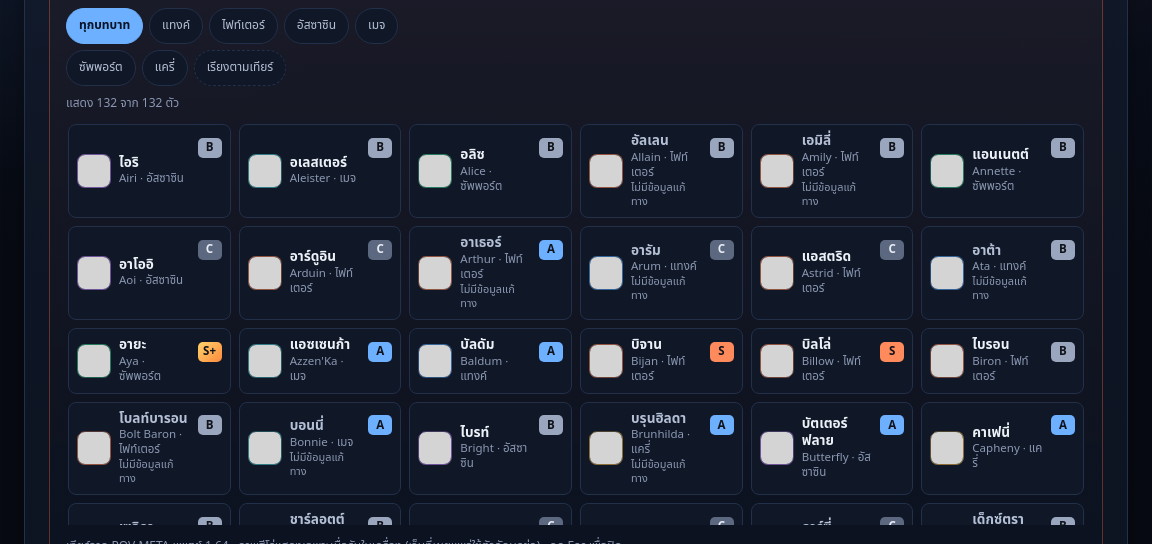
Test: App › ล้างทั้งหมดต้องยืนยันก่อน และยกเลิกได้
The image size is (1152, 544).
(page scrolled)
Click the button "อาร์ดูอิน Arduin · ไฟท์เตอร์ C".
click(320, 273)  # box [239,226,401,320]
(page scrolled)
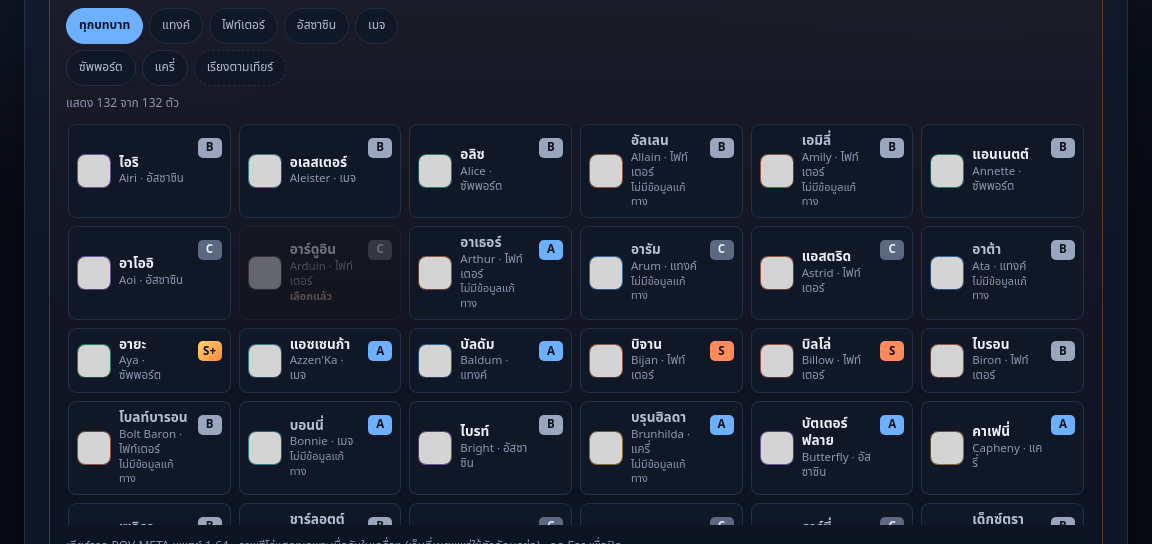
Click the button "อาโออิ Aoi · อัสซาซิน C".
click(149, 273)  # box [68,226,231,320]
(page scrolled)
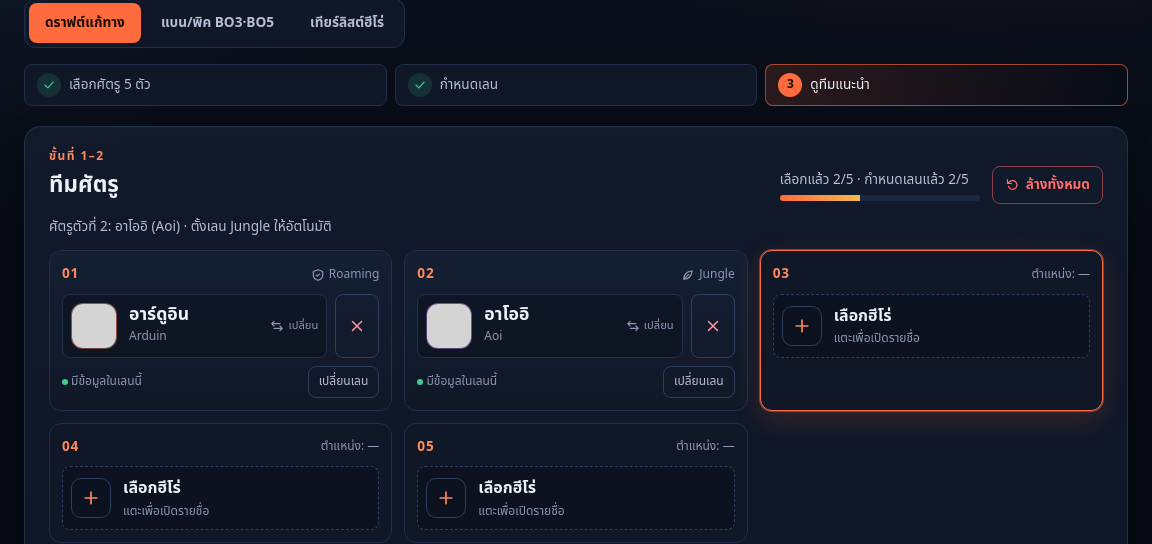
Click the button "ล้างทั้งหมด".
click(1047, 185)  # box [992,166,1103,204]
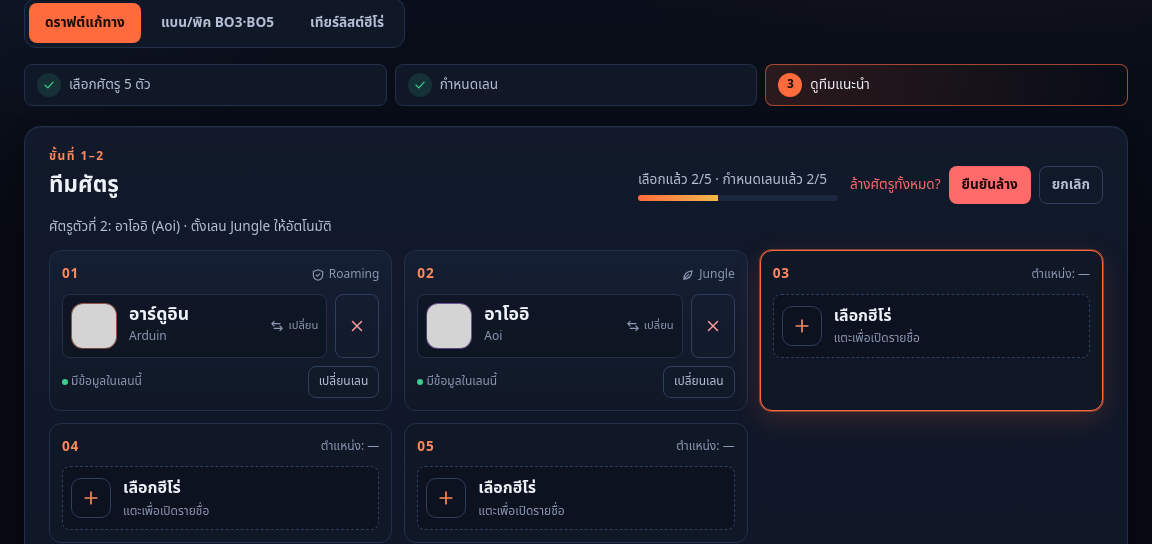
Click the button "ยกเลิก".
click(1071, 185)  # box [1039,166,1103,204]
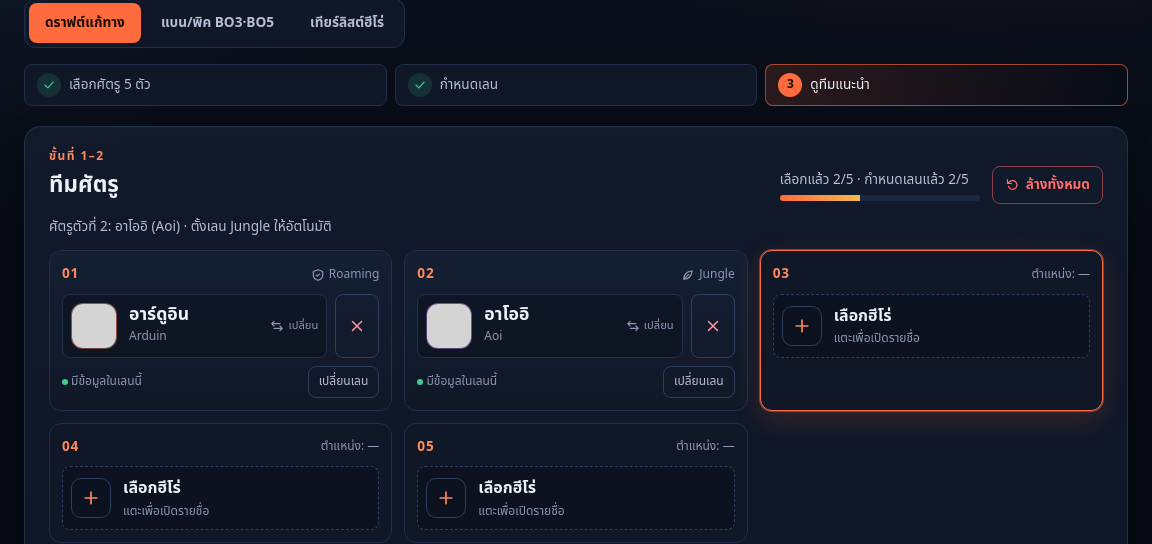
Expected: the text "เลือกแล้ว 2/5 · กำหนดเลนแล้ว 2/5" is shown, [780,169,980,191]
Click the button "ล้างทั้งหมด".
click(1047, 185)  # box [992,166,1103,204]
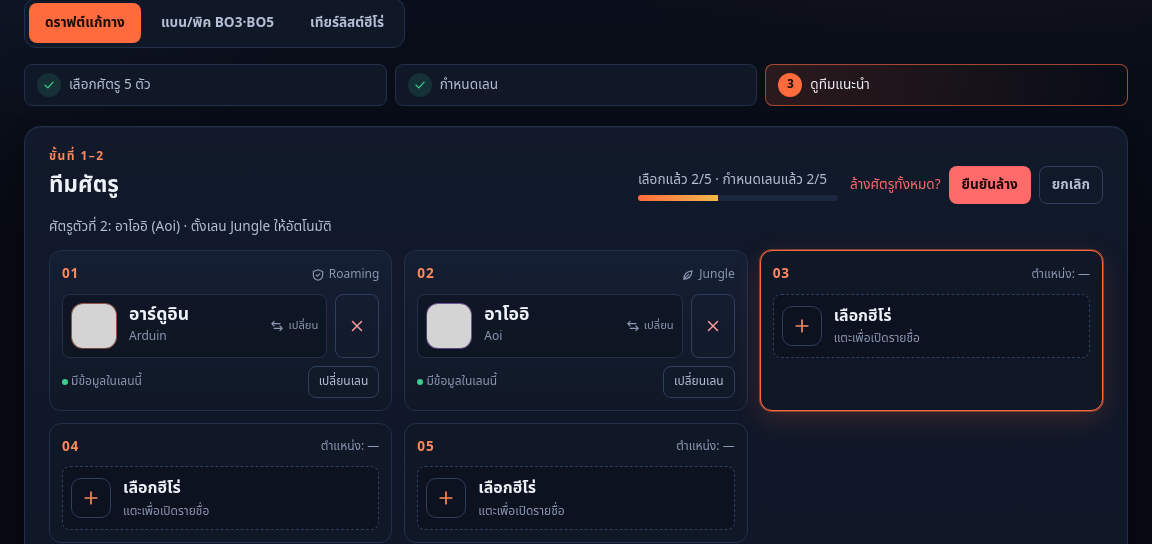
Click the button "ยืนยันล้าง".
click(990, 185)  # box [948,166,1031,204]
(page scrolled)
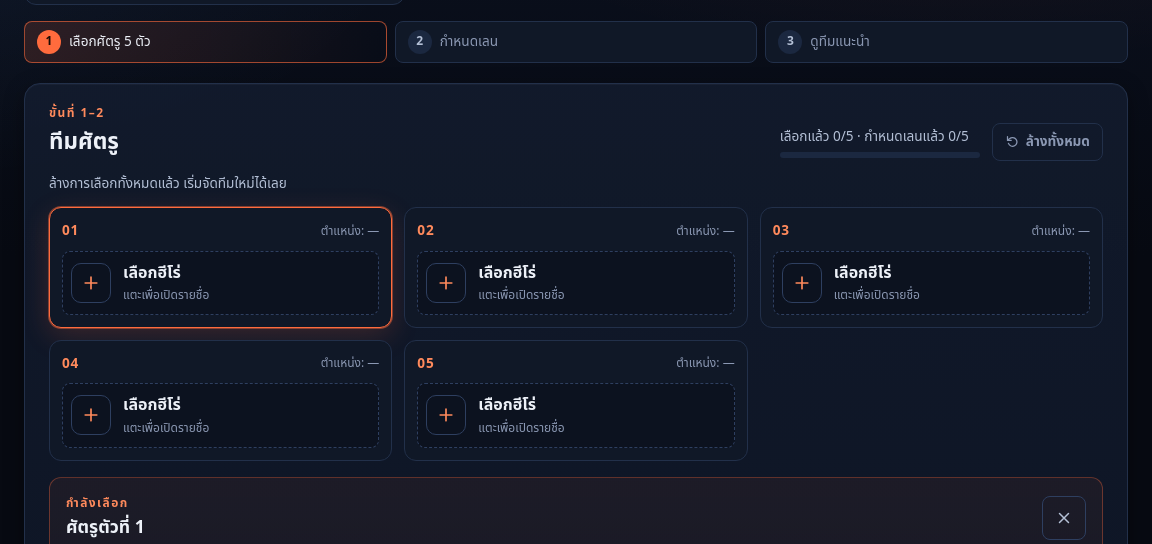
Expected: the text "เลือกแล้ว 0/5 · กำหนดเลนแล้ว 0/5" is shown, [780,126,980,148]
Expected: the text "ล้างการเลือกทั้งหมดแล้ว เริ่มจัดทีมใหม่ได้เลย" is shown, [49,174,287,194]
